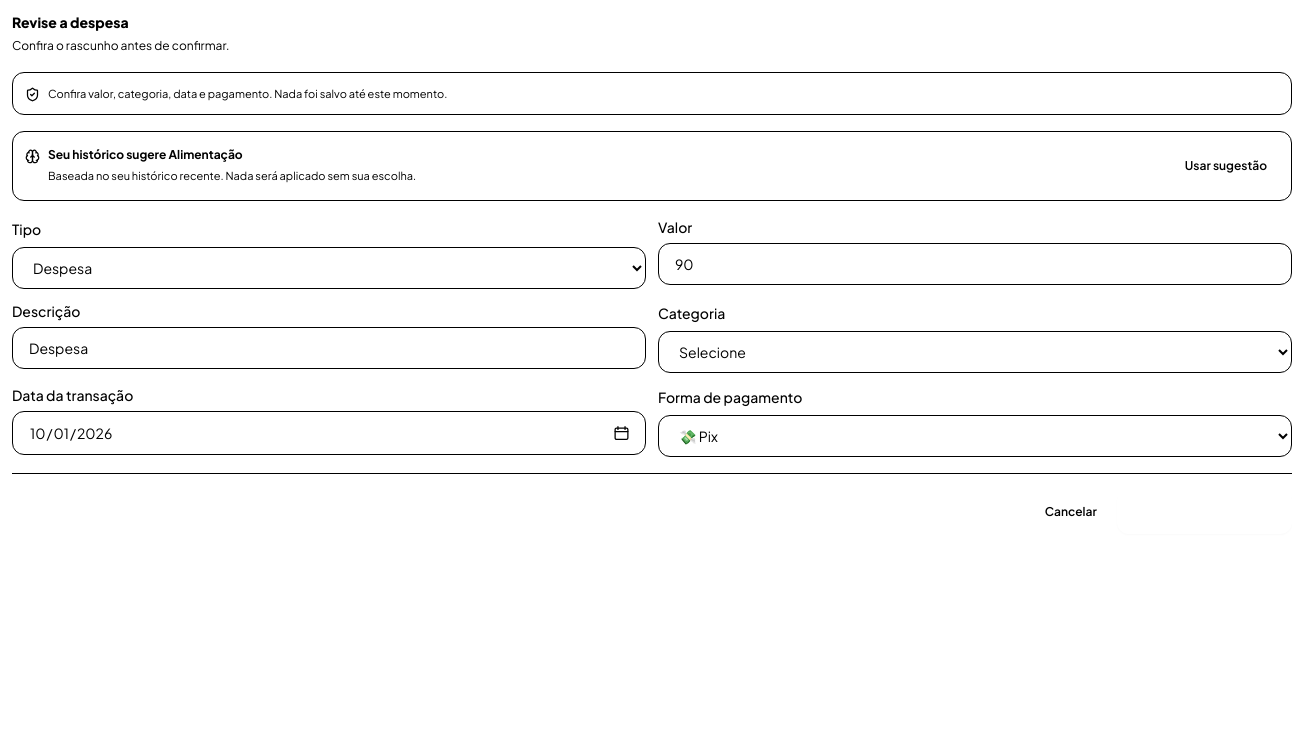
it: MoneyTransactionAction category suggestion › mantém categoria vazia até o usuário aceitar a sugestão
Check: the dropdown labelled "Categoria" shows "Selecione", box [658,331,1292,373]
Check: the text "Seu histórico sugere Alimentação" is shown, box [48,147,243,162]
Click the button "Usar sugestão".
click(1226, 166)  # box [1173,144,1279,188]
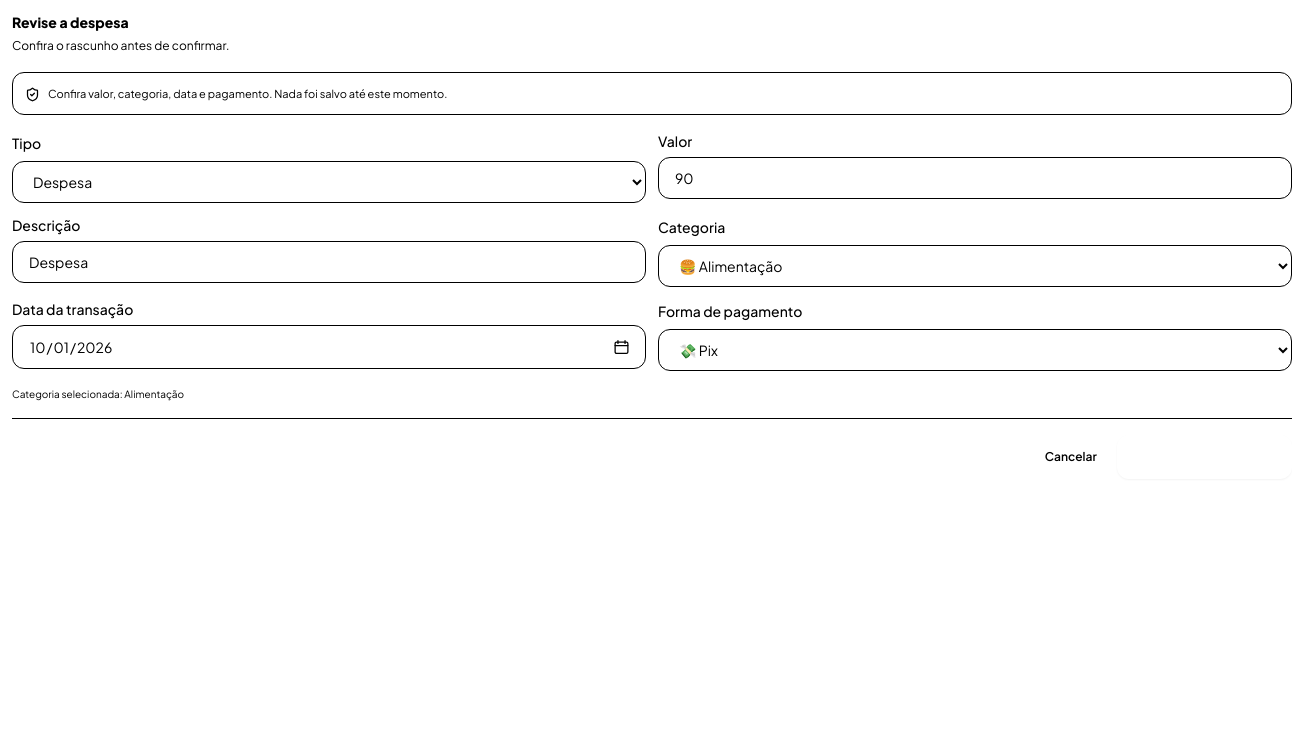
Check: the dropdown labelled "Categoria" shows "🍔 Alimentação", box [658,245,1292,287]
Check: the button "Usar sugestão" is gone
